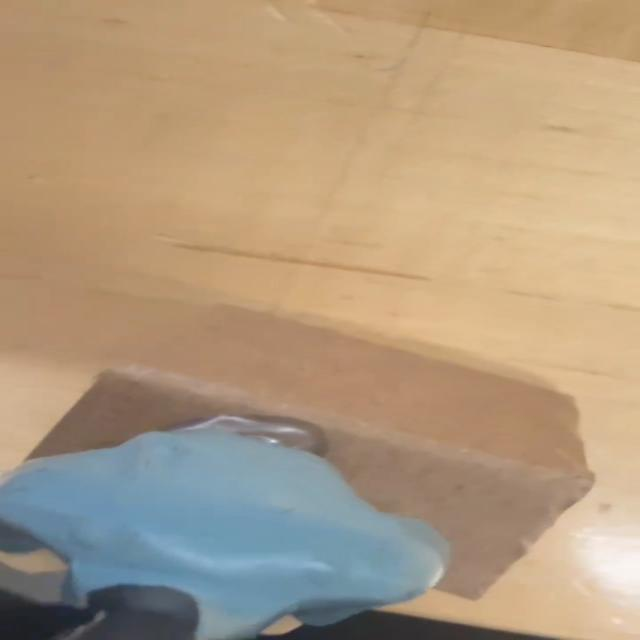Authorized: (0, 405, 456, 640)
